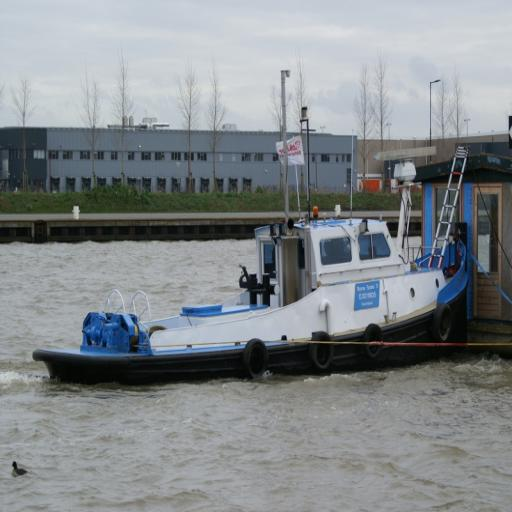tugboat: (31, 105, 481, 396)
